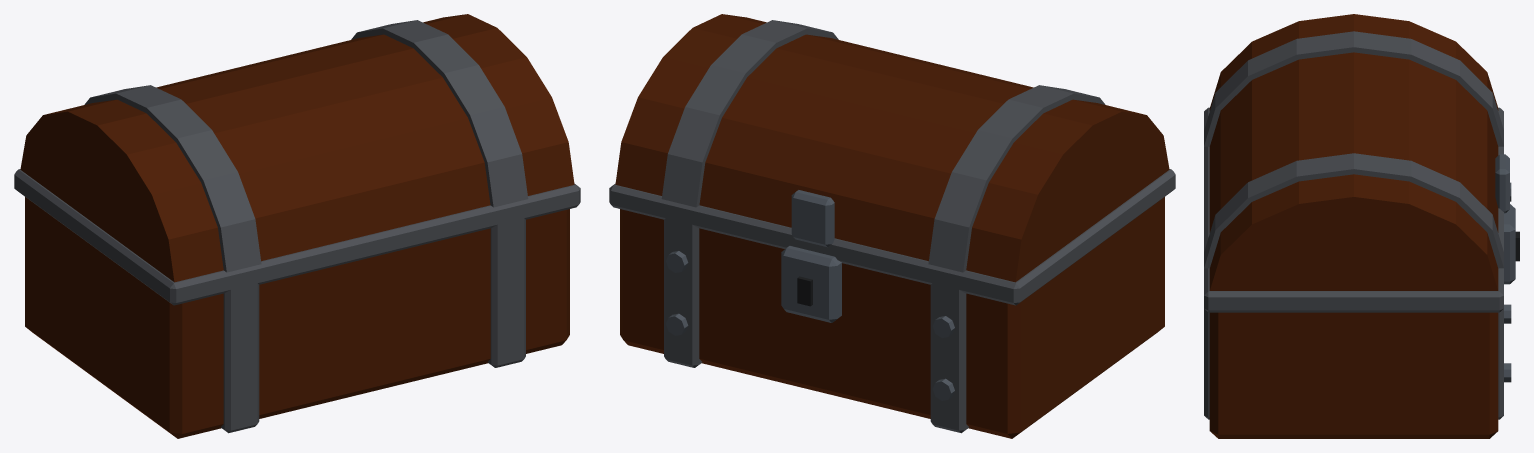
File: chest_common.fbx
3 renders of one model, left to right at view 1: azimuth 30°, elevation 25°; view 2: azimuth 150°, elevation 25°; view 3: azimuth 270°, elevation 25°, orthographic. The views are drawn at different scales.
Parts seen in each view (by area): view 1: Lid, Base; view 2: Lid, Base; view 3: Lid, Base.
Boxes of the visible parts, bbox=[...] form: Lid: bbox=[20, 14, 574, 282]; Base: bbox=[14, 169, 580, 438]; Lid: bbox=[615, 14, 1169, 282]; Base: bbox=[609, 169, 1175, 438]; Lid: bbox=[1204, 14, 1509, 290]; Base: bbox=[1204, 107, 1519, 438].
Bounding box in the file's own units: 3.08 × 1.93 × 2.19.
